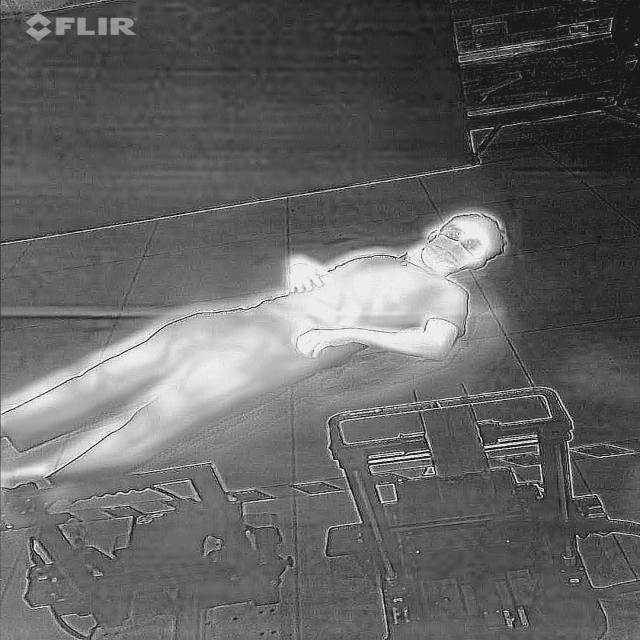Victim: (2, 209, 511, 529)
